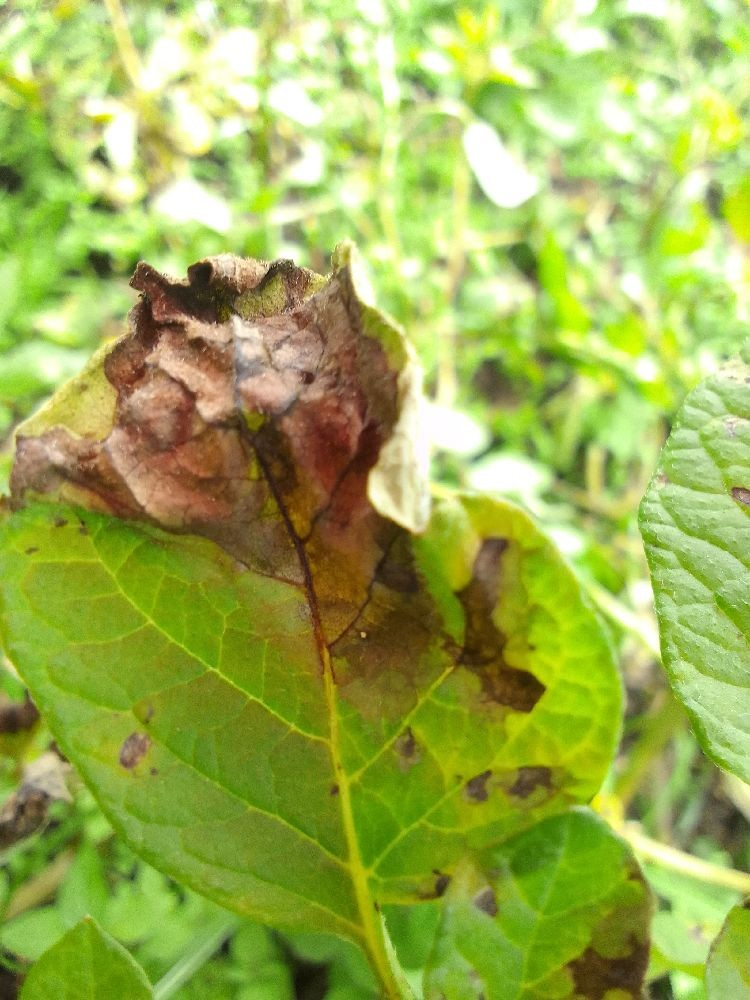late_blight: (0, 230, 562, 813), (550, 890, 686, 1000), (0, 728, 83, 865), (676, 738, 750, 888)
